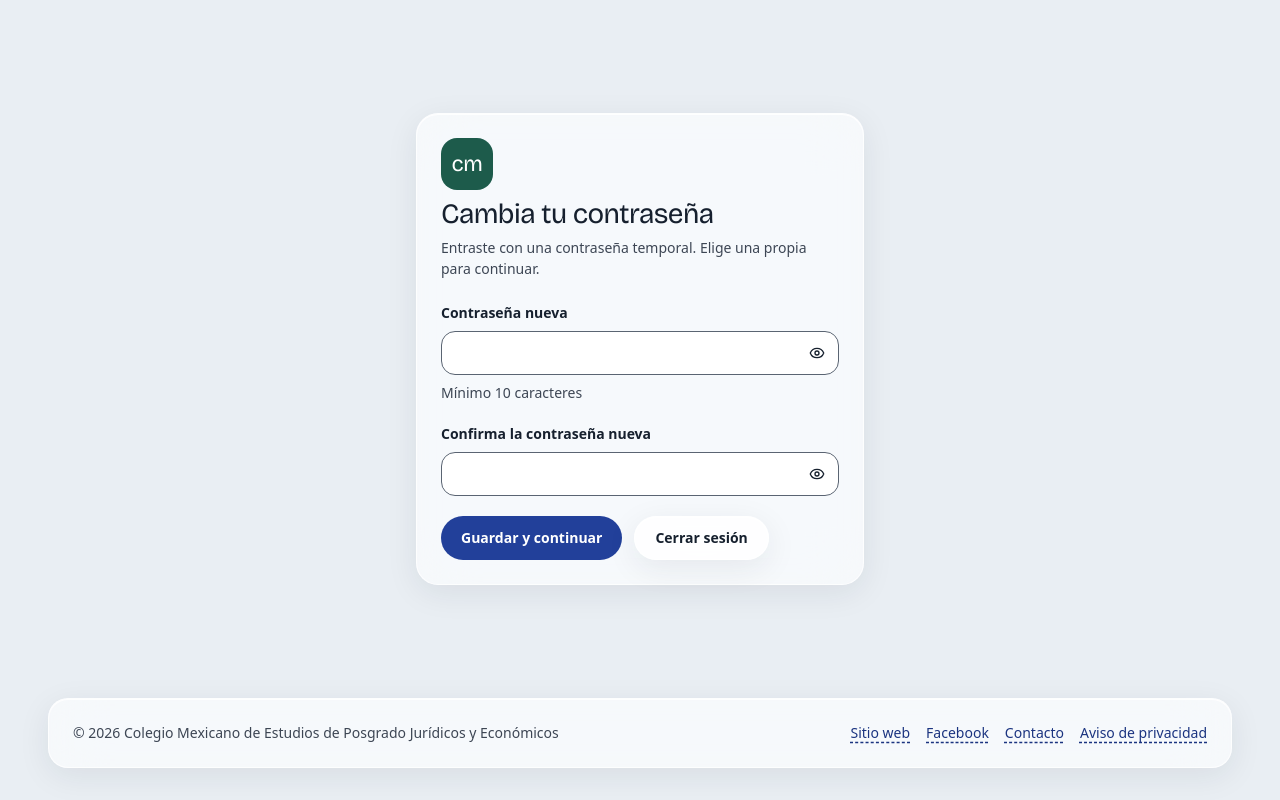
CambiarContrasenaView › con SESION_INVALIDA muestra su mensaje propio
Type "clave-nueva-1234" into the password field labelled "Contraseña nueva".
click(640, 353); type("clave-nueva-1234")  # box [441, 331, 839, 375]
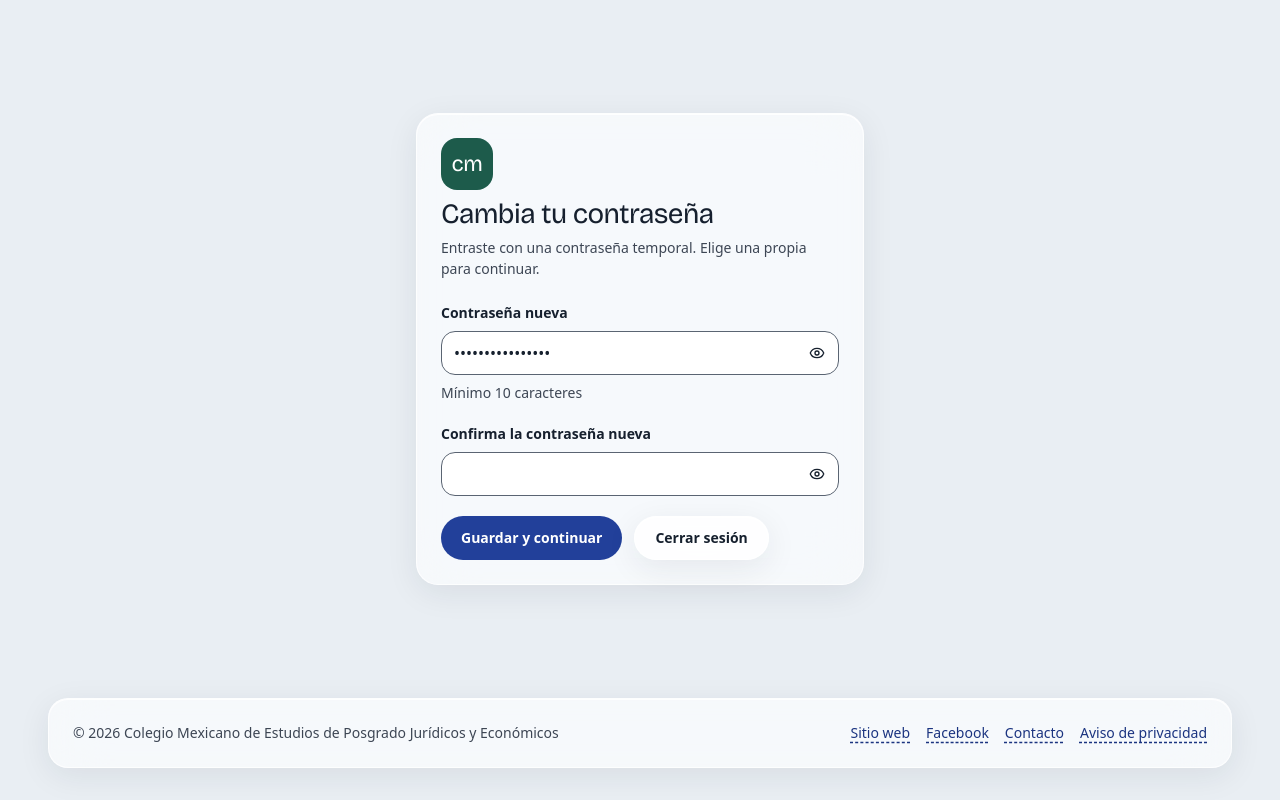
Type "clave-nueva-1234" into the password field labelled "Confirma la contraseña nueva".
click(640, 474); type("clave-nueva-1234")  # box [441, 452, 839, 496]
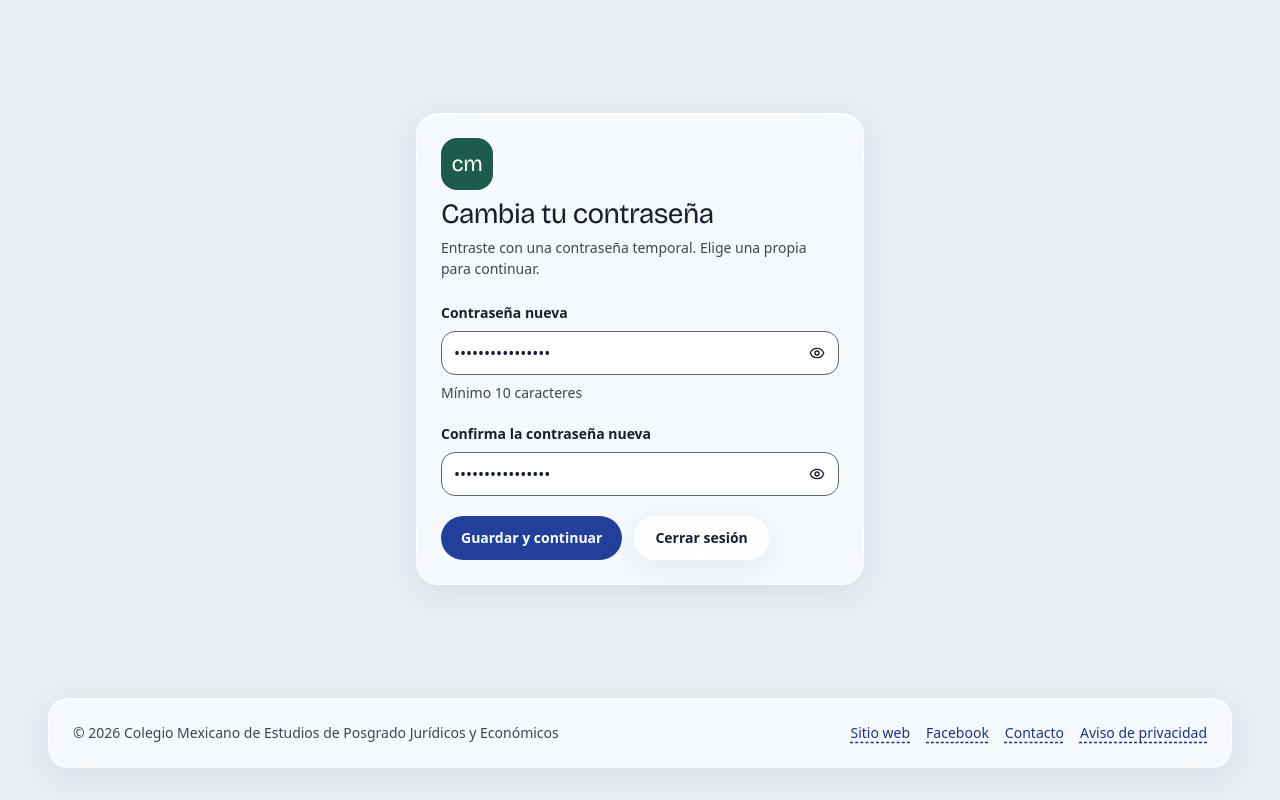
Click the button "Guardar y continuar".
click(532, 538)  # box [441, 516, 622, 560]
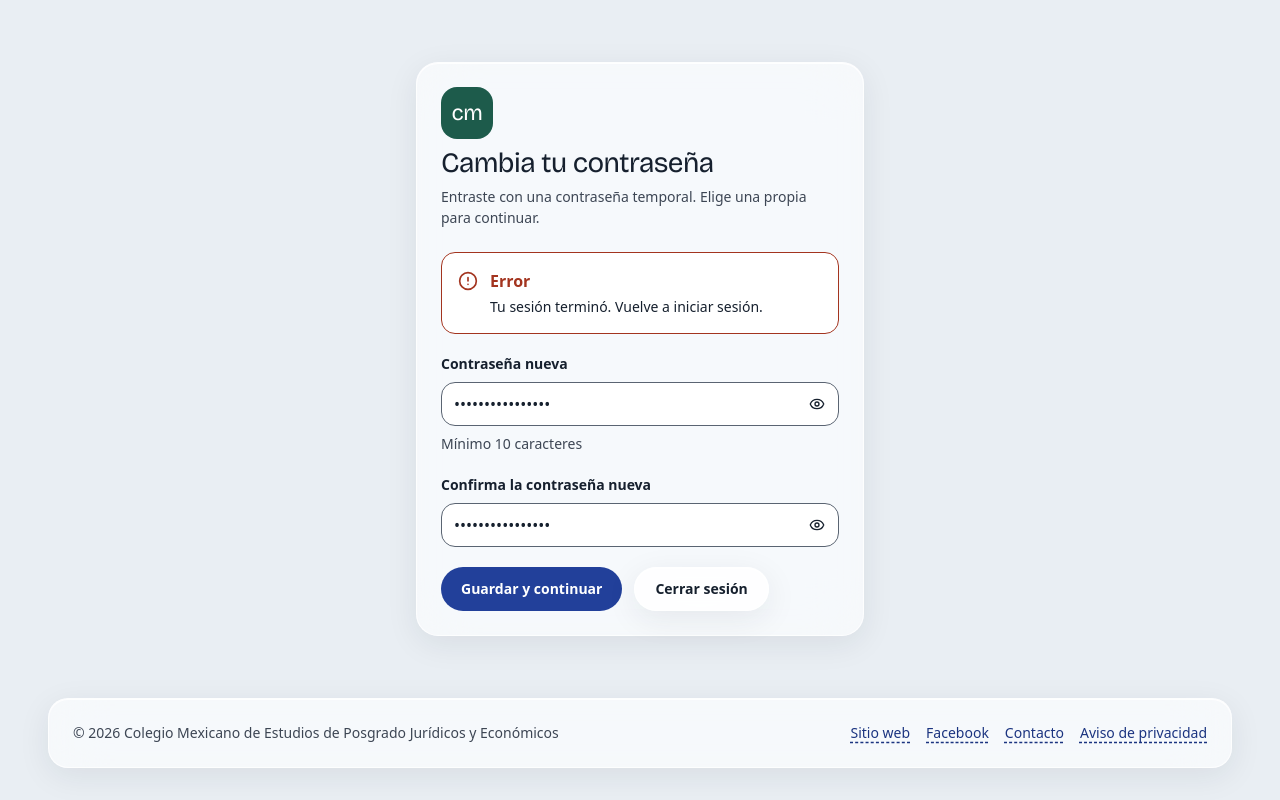
Check: the message shows "Tu sesión terminó. Vuelve a iniciar sesión.", box [490, 297, 763, 316]
